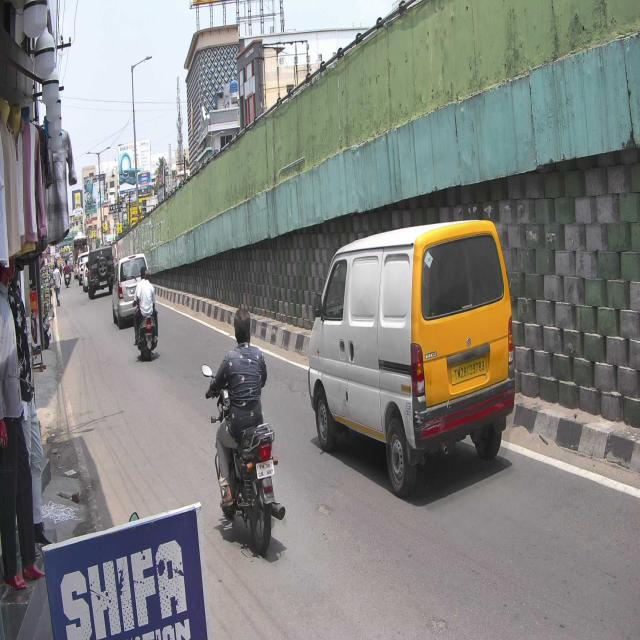single_rider: (202, 304, 286, 556)
